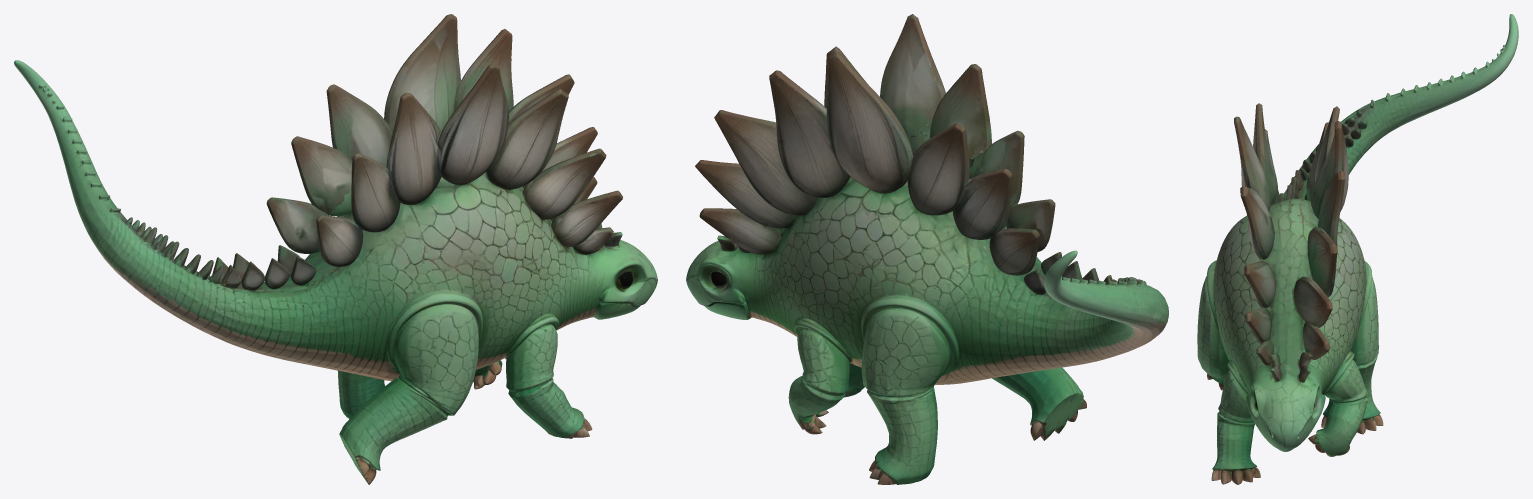
The model's file is modello.glb.
3 views of the same model, side by side, from view 1: azimuth 30°, elevation 25°; view 2: azimuth 150°, elevation 25°; view 3: azimuth 270°, elevation 25° (orthographic). The views are drawn at different scales.
Parts seen in each view (by area): view 1: texture_pbr_v128; view 2: texture_pbr_v128; view 3: texture_pbr_v128.
Part boxes in pixels (x1,y1,x2,y2): texture_pbr_v128: (14,14,657,484); texture_pbr_v128: (686,14,1168,484); texture_pbr_v128: (1197,14,1518,484).
Bounding box in the file's own units: 0.9183 × 0.6668 × 0.583.
1 material, 1 textured.
